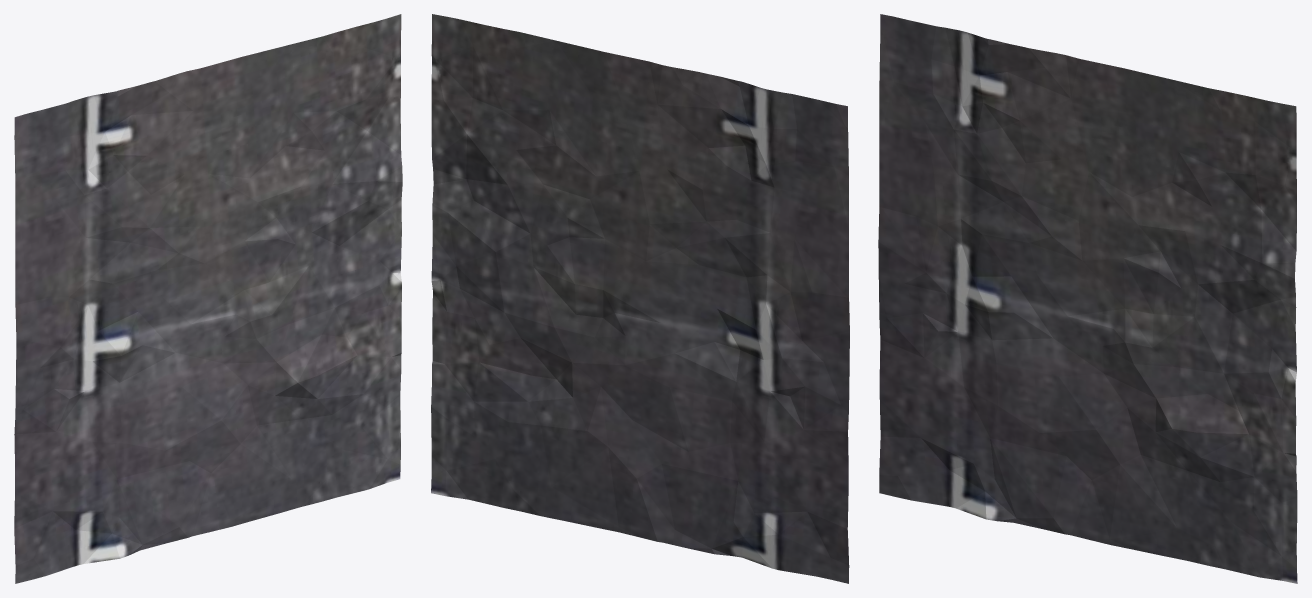
File: tile_5_21_6_tex.obj
3 views of the same model, side by side, from view 1: azimuth 30°, elevation 25°; view 2: azimuth 150°, elevation 25°; view 3: azimuth 330°, elevation 25° (orthographic). The views are drawn at different scales.
Parts seen in each view (by area): view 1: obj_0; view 2: obj_0; view 3: obj_0.
Part boxes in pixels (x1,y1,x2,y2): obj_0: (14, 14, 402, 583); obj_0: (431, 14, 849, 583); obj_0: (878, 14, 1297, 583).
Bounding box in the file's own units: 5.01 × 5.64 × 0.2656.
1 material, 1 textured.
